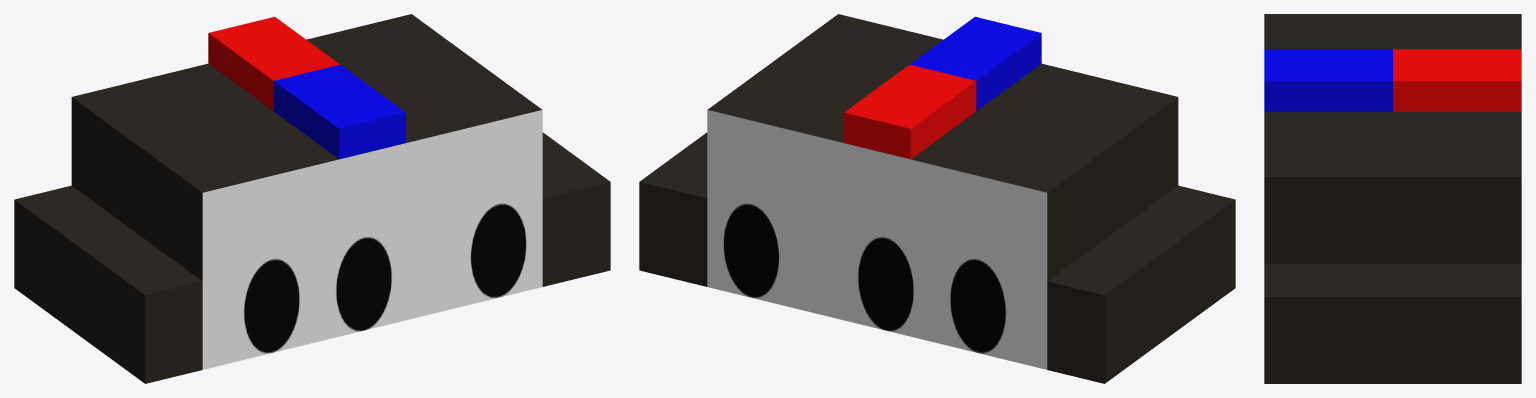
The model's file is policeCar.obj.
3 views of the same model, side by side, from view 1: azimuth 30°, elevation 25°; view 2: azimuth 150°, elevation 25°; view 3: azimuth 270°, elevation 25° (orthographic).
Parts seen in each view (by area): view 1: policeCar_1, policeCar_0, policeCar_4, policeCar_2, policeCar_3, policeCar_5; view 2: policeCar_1, policeCar_0, policeCar_4, policeCar_3, policeCar_2, policeCar_6; view 3: policeCar_0, policeCar_4, policeCar_2, policeCar_3.
Part boxes in pixels (x1,y1,x2,y2): policeCar_1: [202, 110, 542, 369]; policeCar_0: [14, 97, 610, 383]; policeCar_4: [72, 14, 542, 192]; policeCar_2: [273, 64, 405, 158]; policeCar_3: [208, 16, 339, 110]; policeCar_5: [339, 112, 405, 159]; policeCar_1: [707, 110, 1047, 369]; policeCar_0: [639, 97, 1235, 383]; policeCar_4: [707, 14, 1177, 192]; policeCar_3: [844, 64, 976, 158]; policeCar_2: [910, 16, 1041, 110]; policeCar_6: [844, 112, 910, 159]; policeCar_0: [1264, 177, 1521, 383]; policeCar_4: [1264, 14, 1521, 176]; policeCar_2: [1264, 49, 1392, 111]; policeCar_3: [1393, 49, 1521, 111].
Size of the model in its own units: 2.05 by 0.8759 by 1.
4 materials, 1 textured.
